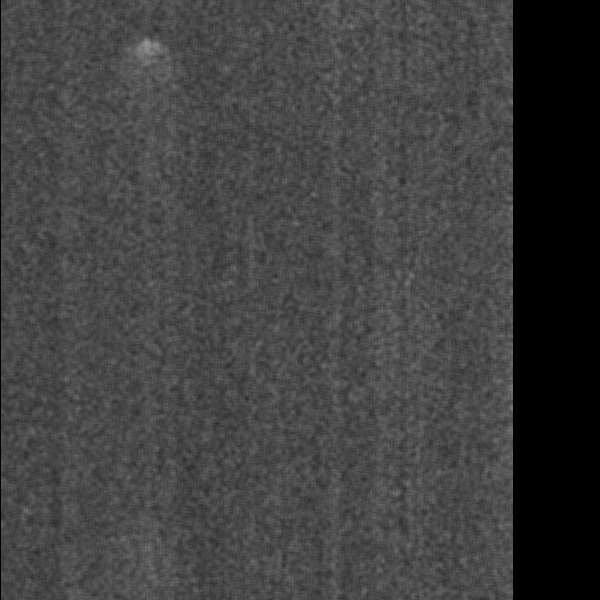spark: (351, 175, 371, 204)
